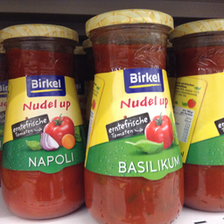tomato_sauce: (82, 7, 186, 223), (1, 23, 87, 220), (173, 19, 223, 213)
